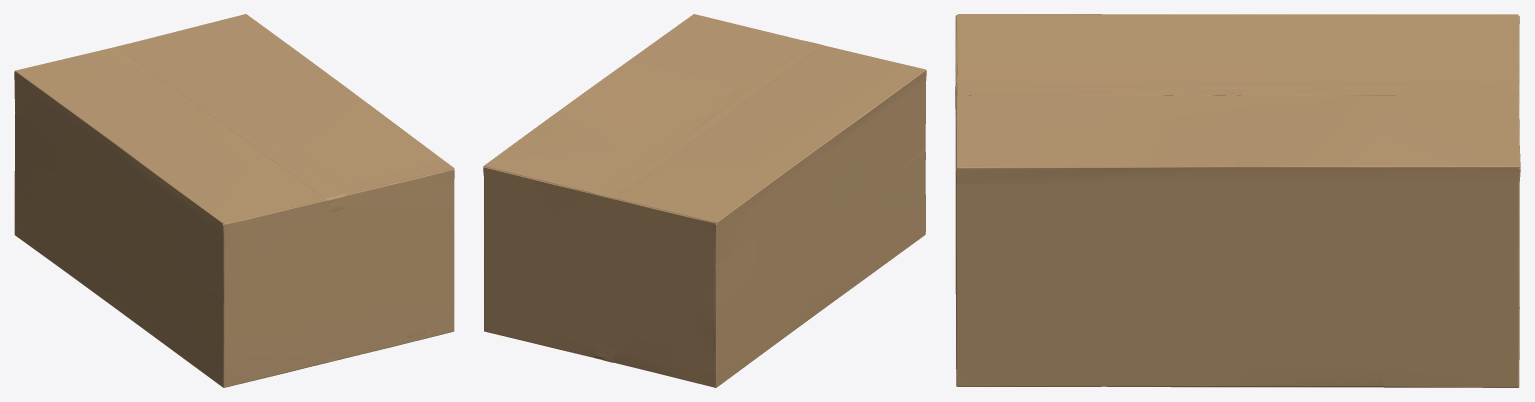
File: box_corrugated_white_a18.glb
The picture shows the model from 3 angles, left to right: view 1: azimuth 30°, elevation 25°; view 2: azimuth 150°, elevation 25°; view 3: azimuth 270°, elevation 25°; orthographic projection. The views are drawn at different scales.
Size of the model in its own units: 0.299 by 0.2034 by 0.4674.
